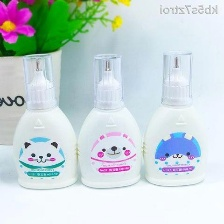correction_fluid: (9, 49, 81, 193), (73, 51, 146, 190), (140, 48, 210, 189)
